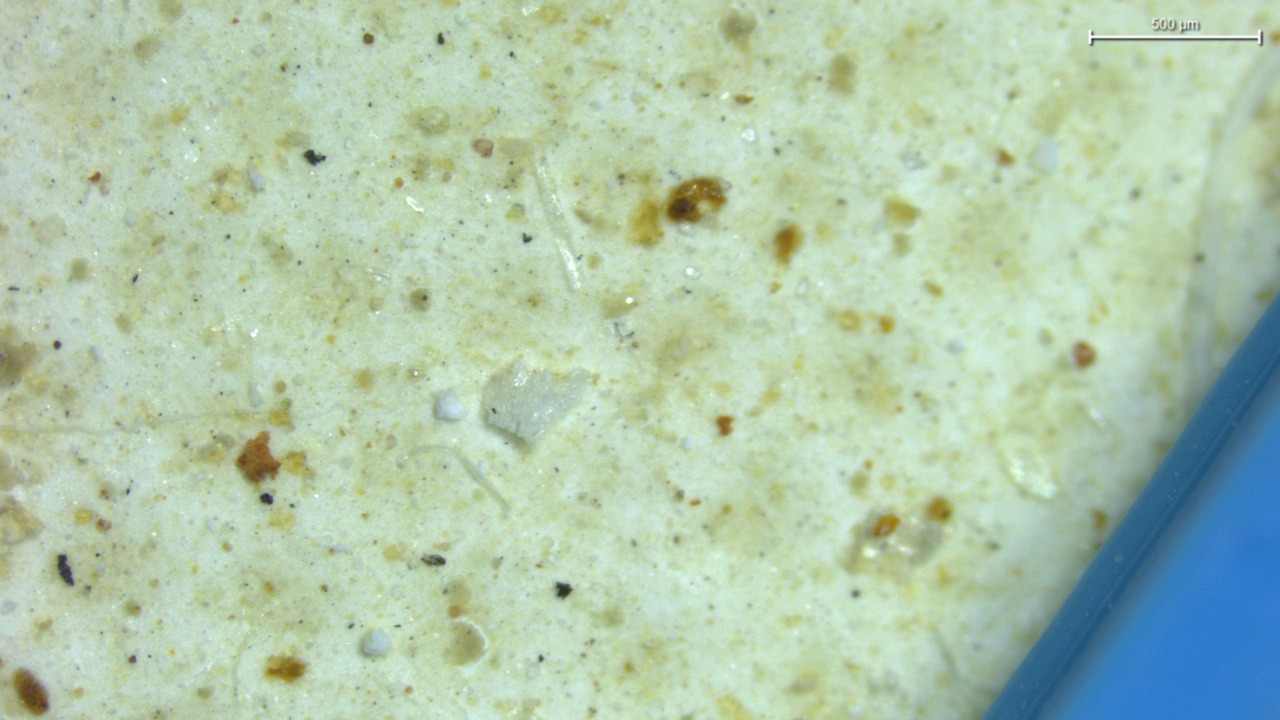microplastic_fragment: (482, 360, 587, 443), (433, 389, 464, 420), (360, 630, 392, 657)
